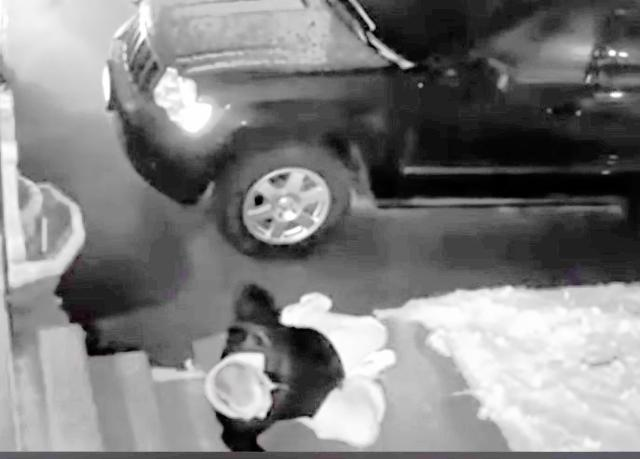jatuh: (196, 276, 404, 456)
